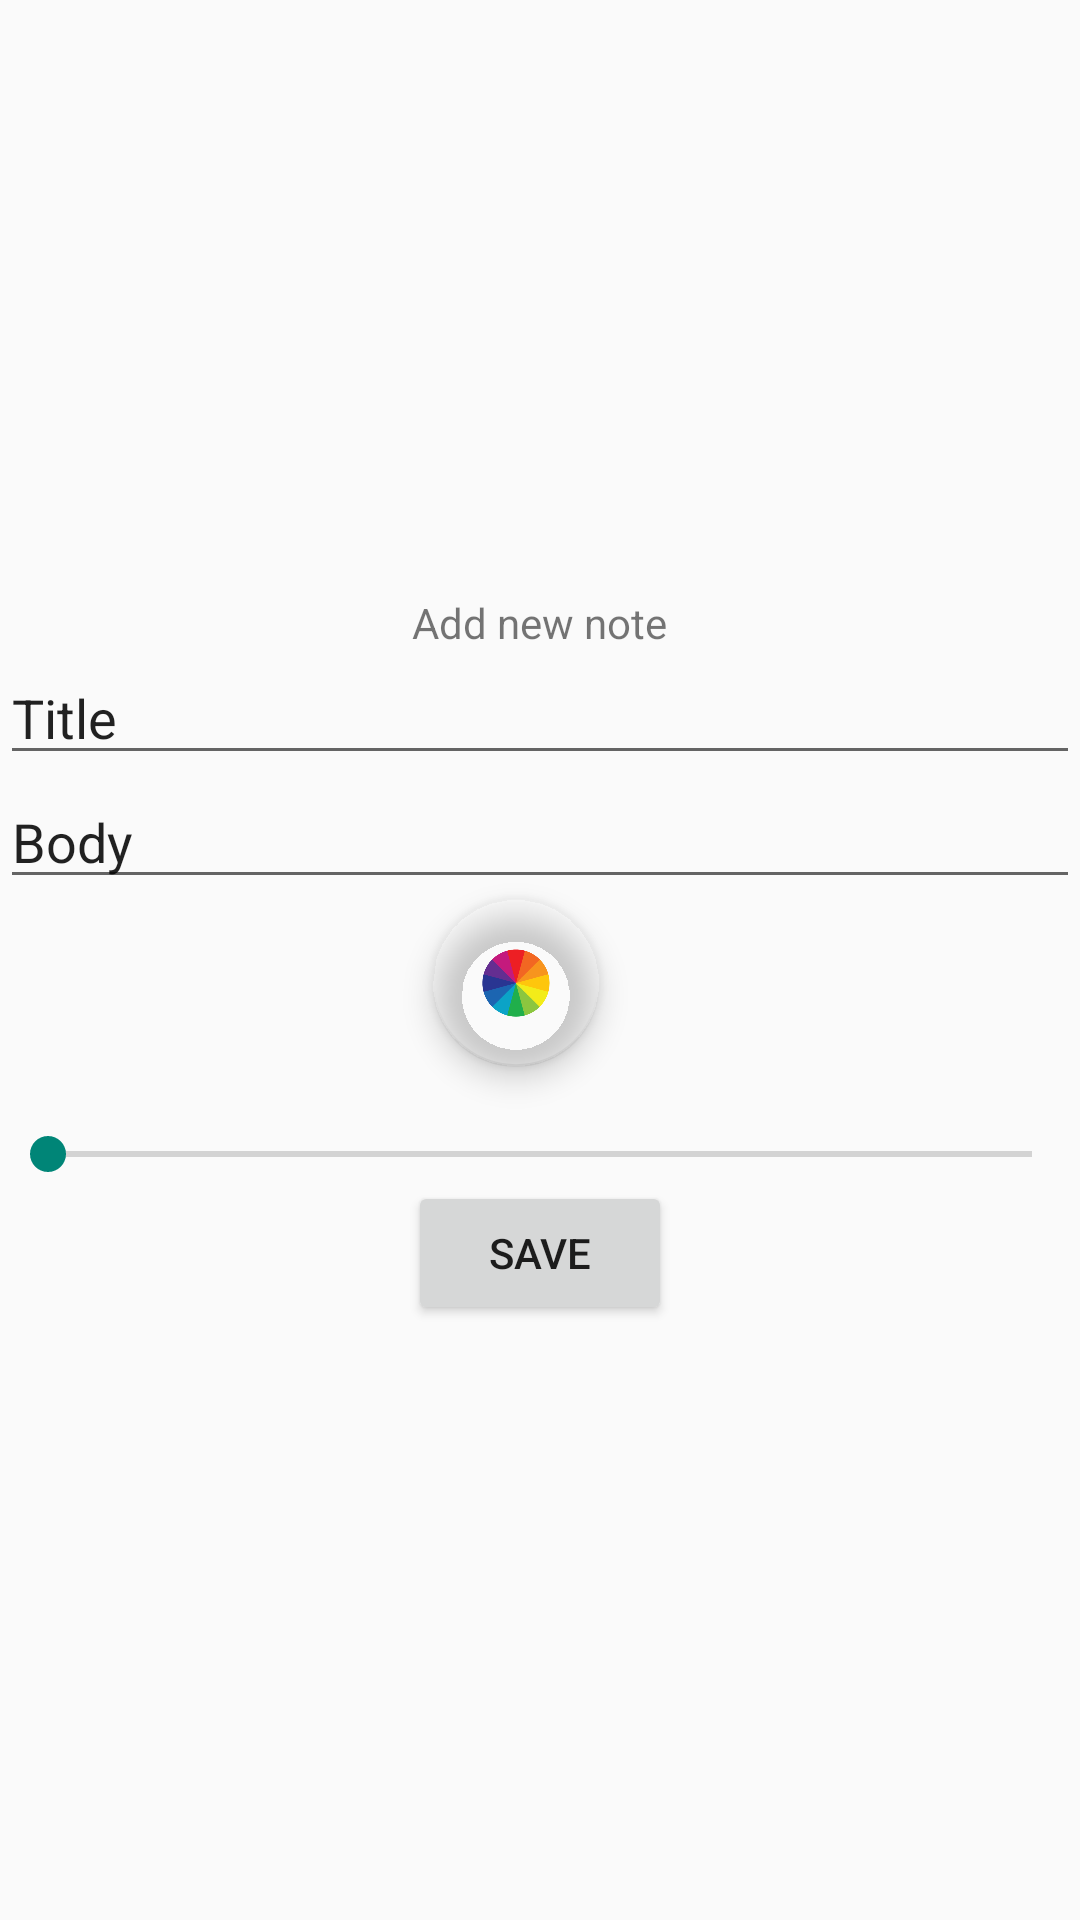

Point at icon controls on the screen. Image size 1080px x 1920px, points as (x,y).
picker: (516,992)
